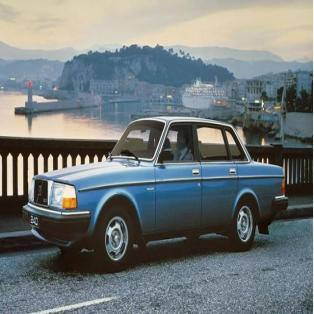Auto: (21, 113, 290, 270)
